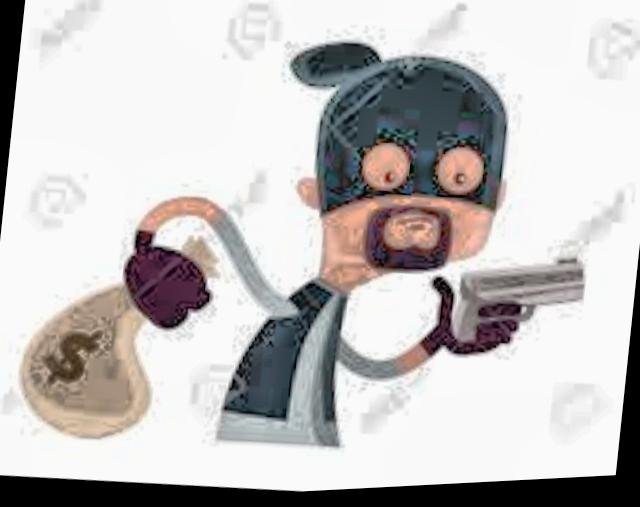pistol: (446, 244, 588, 362)
